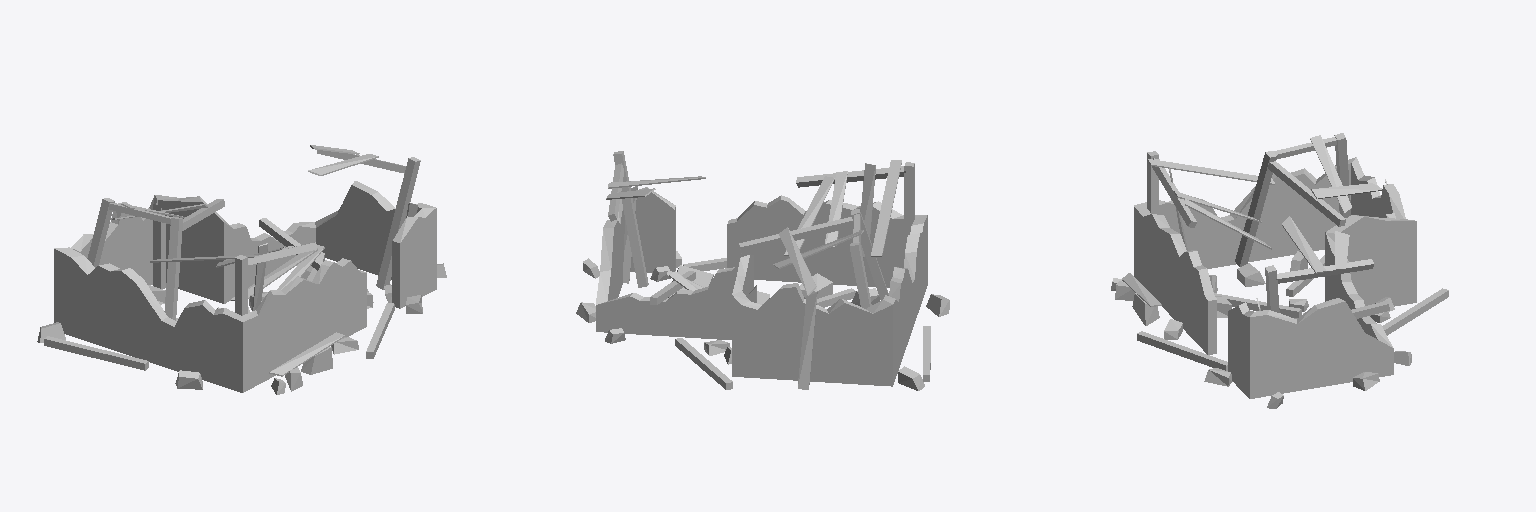
Rendered from house.obj.
3 renders of one model, left to right at view 1: azimuth 30°, elevation 25°; view 2: azimuth 150°, elevation 25°; view 3: azimuth 270°, elevation 25°, orthographic.
Visible parts, largest first — view 1: Cube_Cube.003, Cube.028_Cube.005; view 2: Cube_Cube.003, Cube.028_Cube.005; view 3: Cube_Cube.003, Cube.028_Cube.005.
Part boxes in pixels (bbox=[...]): Cube_Cube.003: bbox=[37, 181, 446, 394]; Cube.028_Cube.005: bbox=[44, 145, 420, 376]; Cube_Cube.003: bbox=[576, 187, 949, 390]; Cube.028_Cube.005: bbox=[606, 151, 930, 389]; Cube_Cube.003: bbox=[1111, 157, 1416, 408]; Cube.028_Cube.005: bbox=[1122, 133, 1448, 370].
Size of the model in its own units: 5.58 by 1.94 by 4.36.